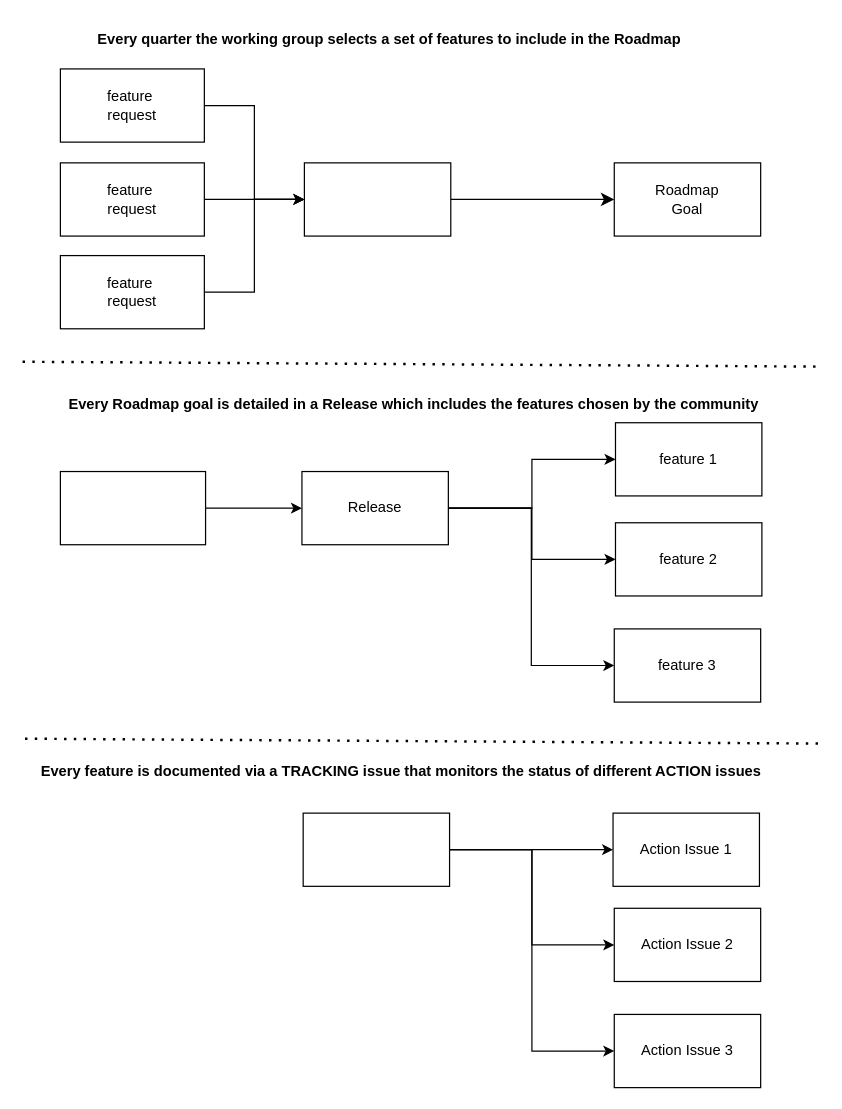
This 842x1109 diagram has some shape labels left out. Each missing label, with the centre of its shape:
"Community discussion" belongs at point (377, 199).
"Feature X" belongs at point (376, 849).
"Goal" belongs at point (132, 507).
